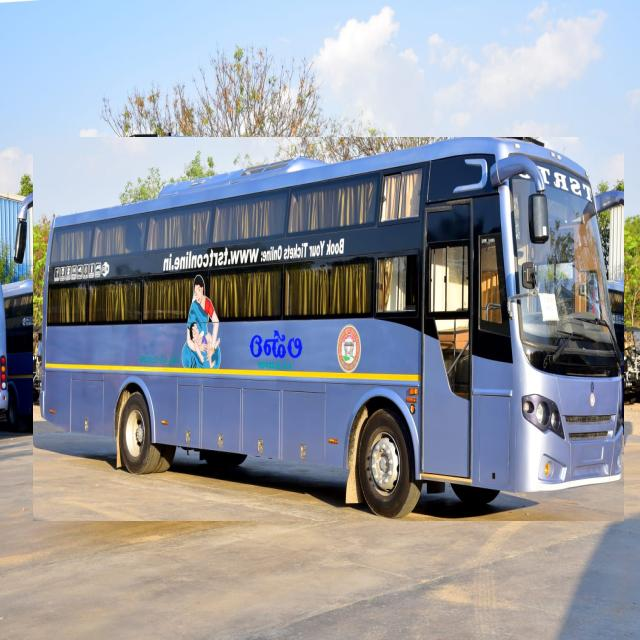bus: (34, 137, 624, 521)
